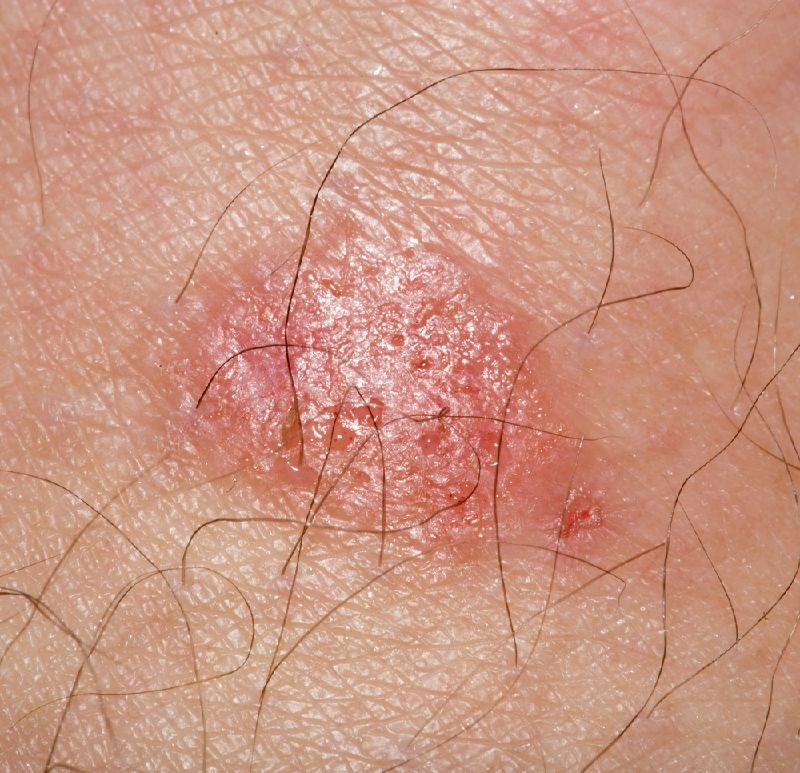Ringworm: (154, 240, 618, 560)
